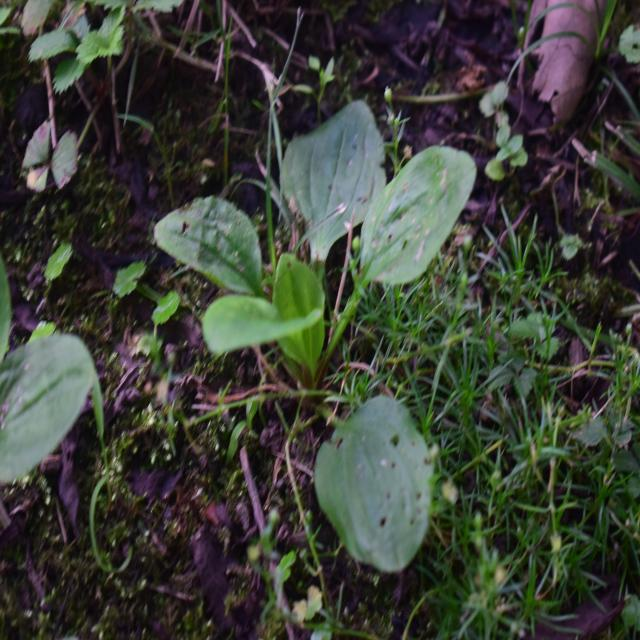plantain: (194, 135, 482, 542)
